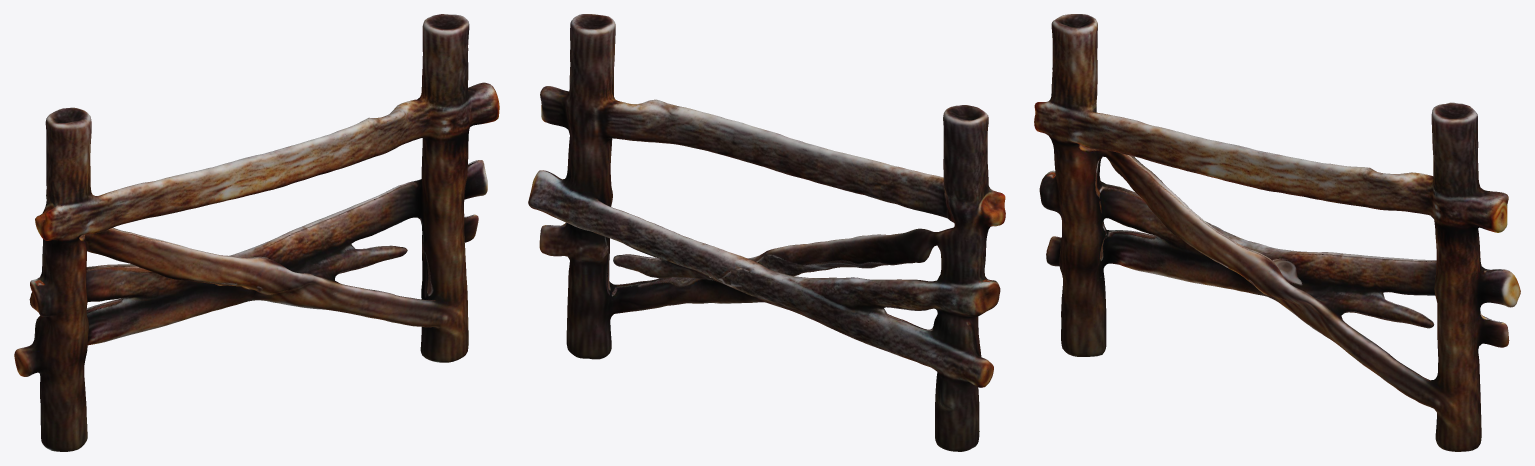
The model's file is d466e78da455_a_barricade__made_b.fbx.
3 views of the same model, side by side, from view 1: azimuth 30°, elevation 25°; view 2: azimuth 150°, elevation 25°; view 3: azimuth 330°, elevation 25° (orthographic).
Visible parts, largest first — view 1: mesh; view 2: mesh; view 3: mesh.
Boxes of the visible parts, x1,y1,x2,y2 form: mesh: (14, 14, 499, 451); mesh: (528, 14, 1005, 451); mesh: (1034, 14, 1520, 451).
Size of the model in its own units: 99.89 by 68.79 by 12.05.
